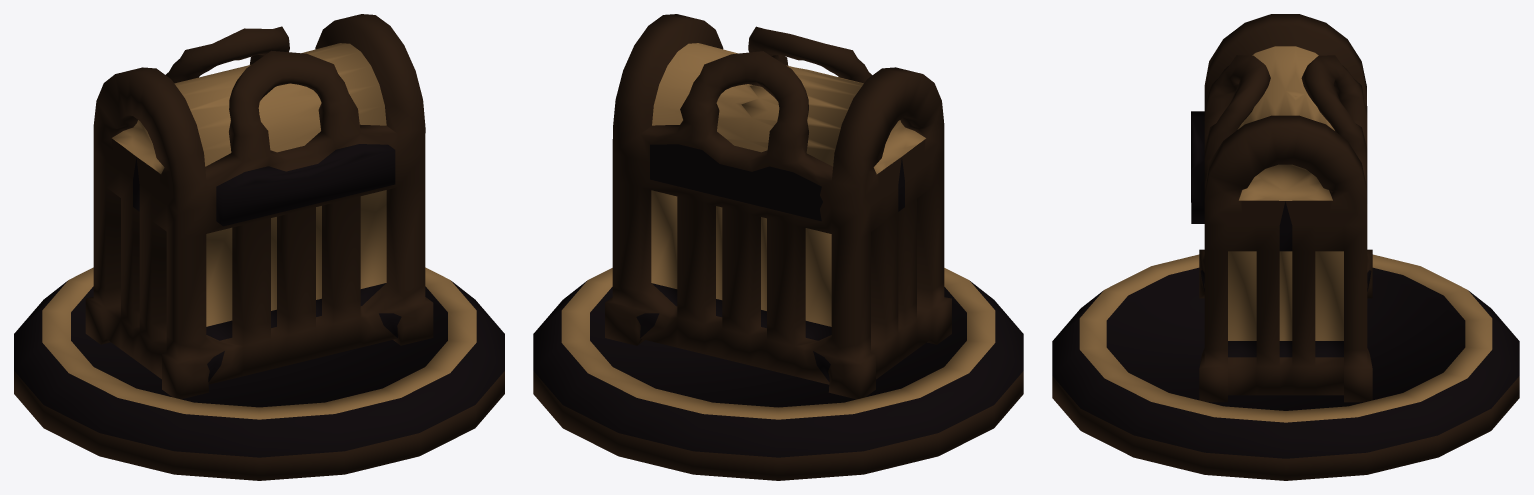
Rendered from ItemChestPiece.fbx.
The picture shows the model from 3 angles, left to right: view 1: azimuth 30°, elevation 25°; view 2: azimuth 150°, elevation 25°; view 3: azimuth 270°, elevation 25°; orthographic projection. The views are drawn at different scales.
Parts seen in each view (by area): view 1: Cylinder001; view 2: Cylinder001; view 3: Cylinder001.
Boxes of the visible parts, bbox=[...] form: Cylinder001: bbox=[14, 14, 504, 480]; Cylinder001: bbox=[533, 14, 1023, 480]; Cylinder001: bbox=[1052, 14, 1519, 480].
Bounding box in the file's own units: 17.52 × 13.03 × 17.25.
